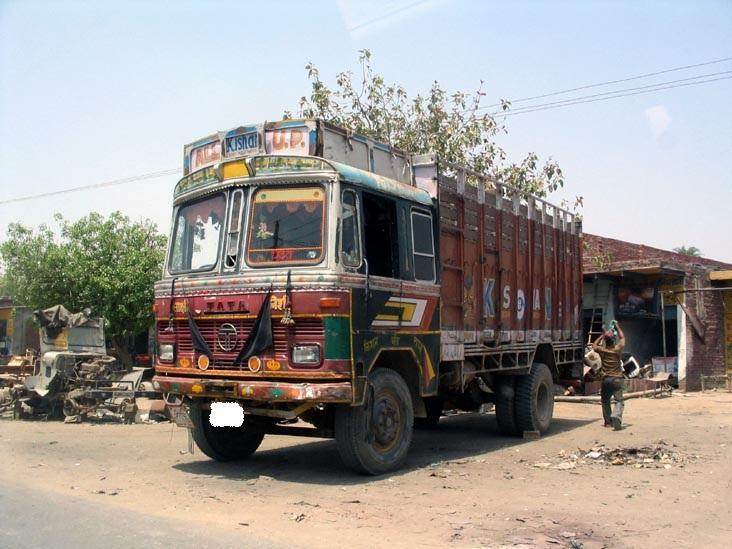truck: (135, 90, 642, 472)
